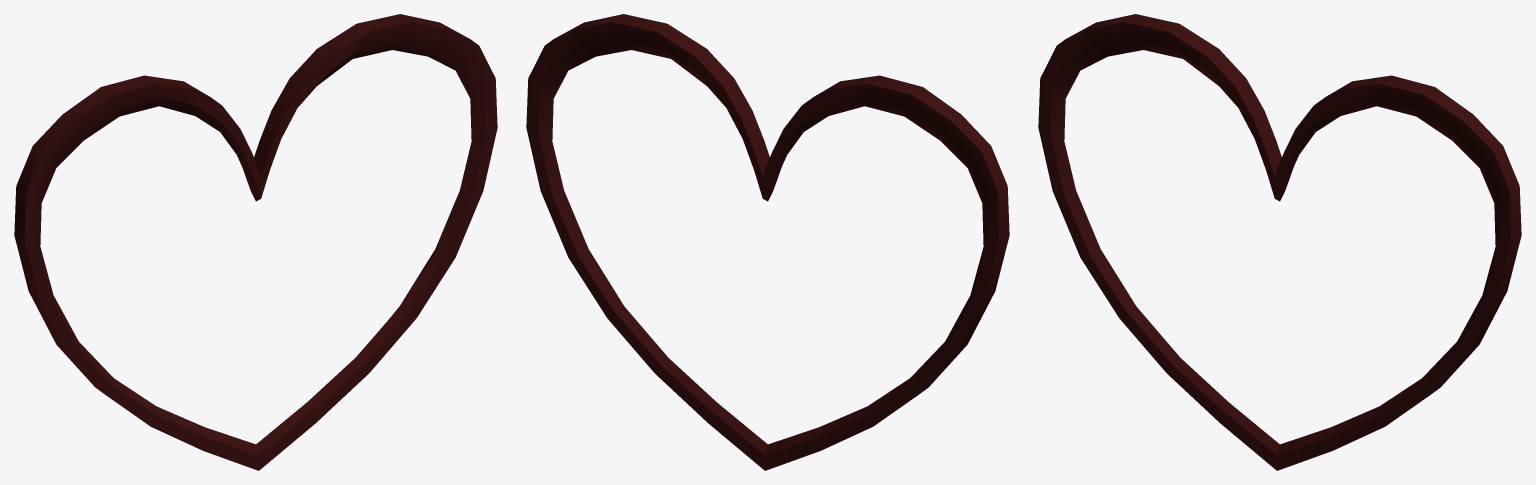
File: Heart_Outline.obj
The picture shows the model from 3 angles, left to right: view 1: azimuth 30°, elevation 25°; view 2: azimuth 150°, elevation 25°; view 3: azimuth 330°, elevation 25°; orthographic projection.
Parts seen in each view (by area): view 1: Heart_Outline_Cube.012; view 2: Heart_Outline_Cube.012; view 3: Heart_Outline_Cube.012.
Part boxes in pixels (x1=…): Heart_Outline_Cube.012: x1=14, y1=14, x2=497, y2=470; Heart_Outline_Cube.012: x1=526, y1=14, x2=1009, y2=470; Heart_Outline_Cube.012: x1=1038, y1=14, x2=1521, y2=470.
Size of the model in its own units: 1.48 by 1.24 by 0.0607.
